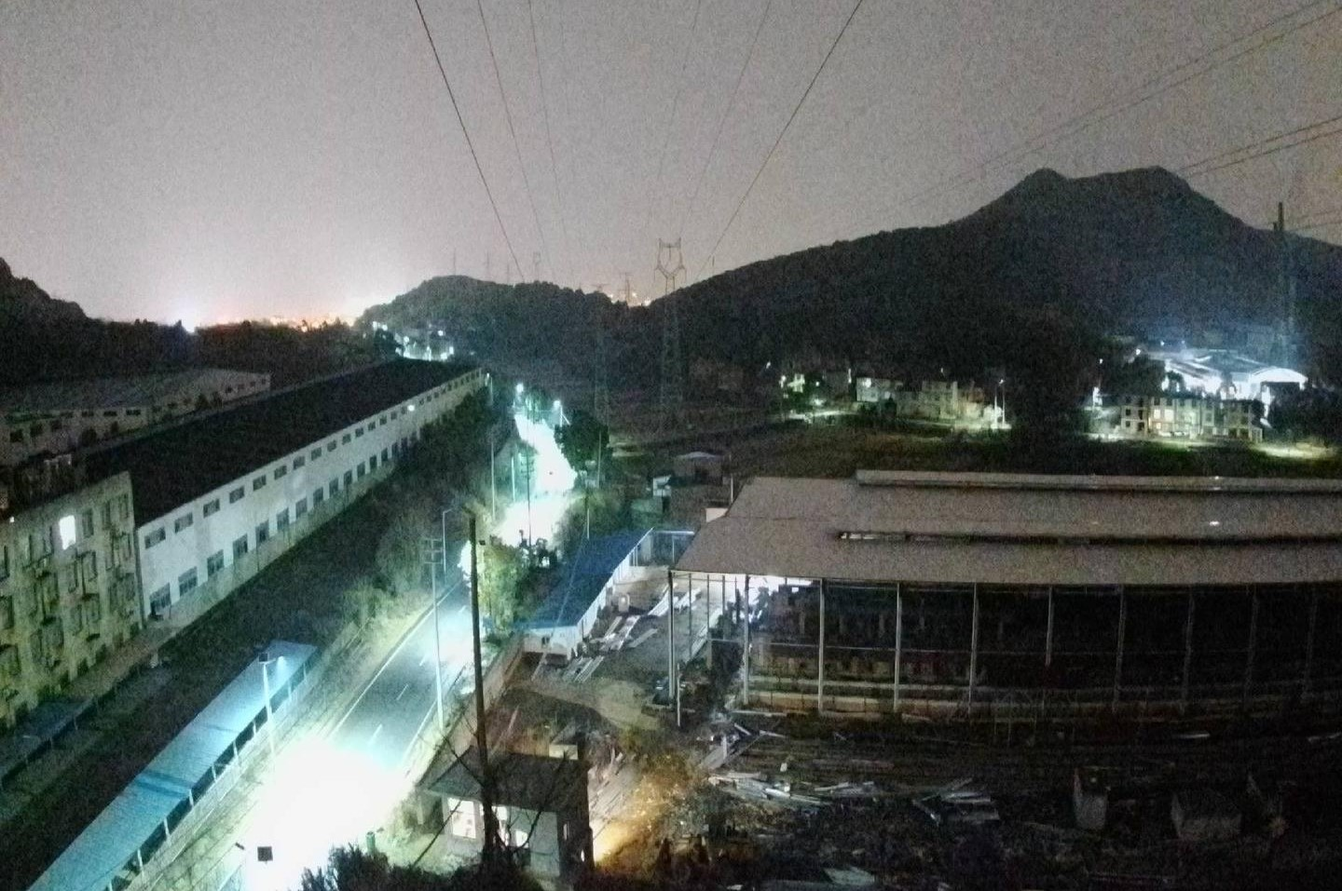过爆灯光: (228, 733, 414, 890), (514, 411, 578, 494), (497, 494, 575, 550), (1228, 365, 1308, 405), (1161, 355, 1226, 400), (1259, 417, 1270, 427), (1263, 405, 1269, 417)
